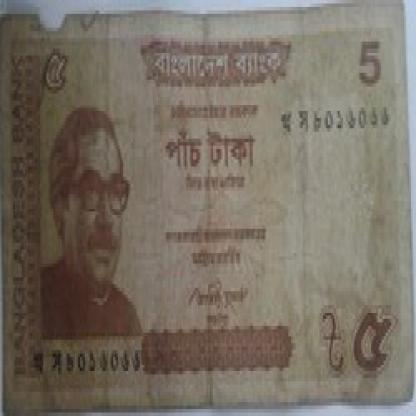Five Taka: (348, 302, 398, 388), (33, 42, 77, 100), (354, 28, 386, 90)
